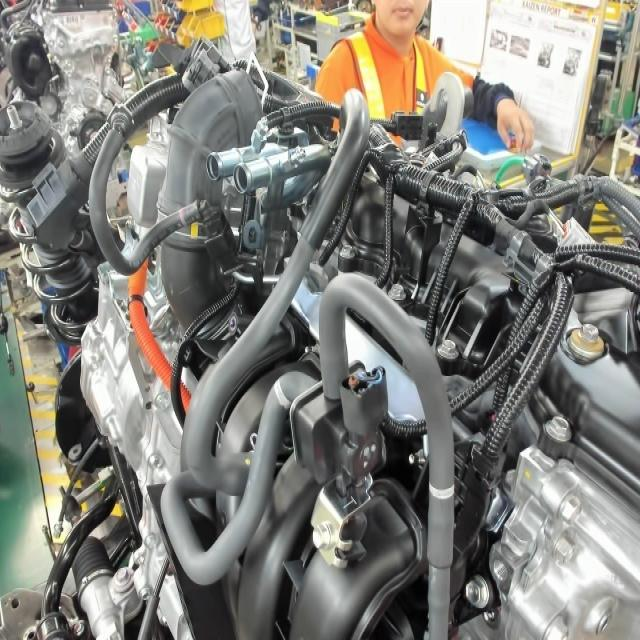Hose Canister-PT: (425, 476, 458, 504)
Tube Sub Assy Fuel-HJ: (177, 205, 187, 228)
